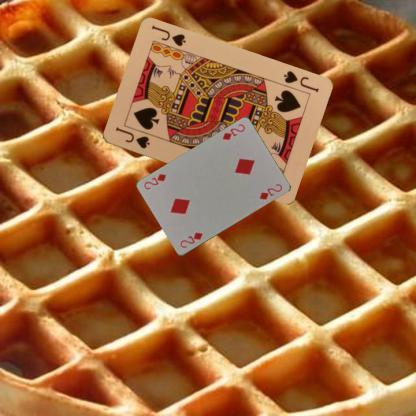2d: (219, 121, 247, 142), (177, 230, 204, 250)
Js: (280, 68, 320, 94), (113, 124, 151, 150)
